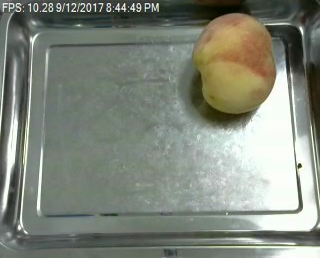Peach: (193, 10, 276, 114)
